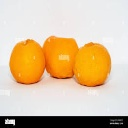orange: (72, 41, 112, 87), (7, 39, 46, 85)
